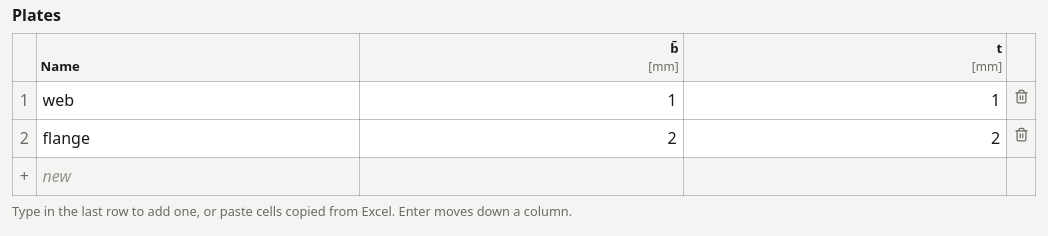
Test: DataTable › deletes a row with its button, never below the minimum
Click the button named "Delete flange": (1021, 134) [1010,123,1033,146]
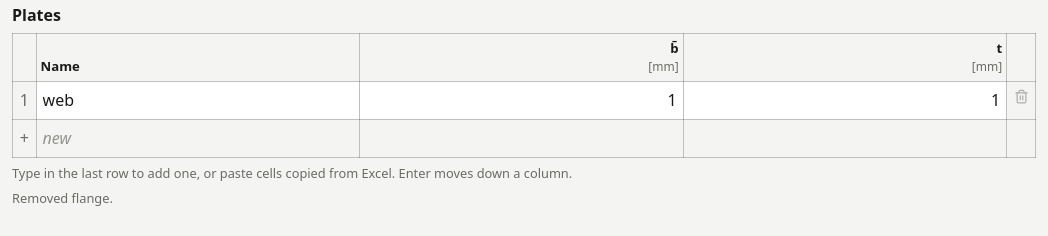
Result: the button named "Delete web" is disabled at [1010,85,1033,108]
